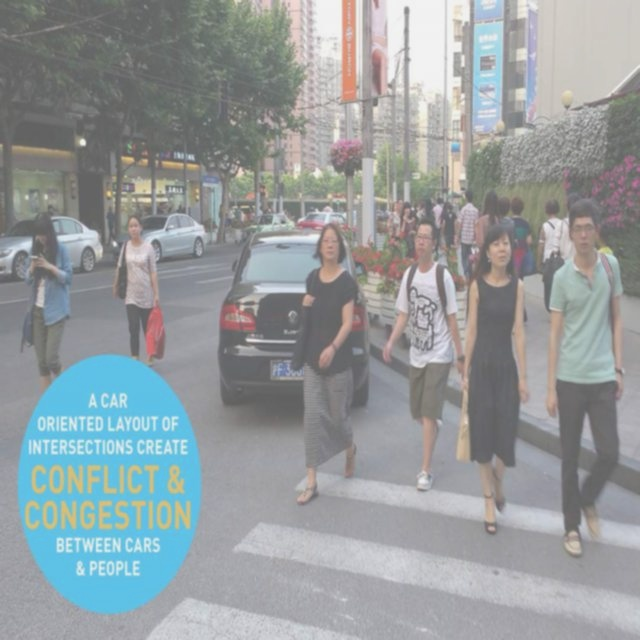pessoa: (546, 196, 627, 560), (381, 214, 470, 493), (454, 221, 532, 537), (290, 221, 360, 506), (17, 210, 74, 394), (112, 214, 160, 368), (536, 198, 566, 326), (510, 196, 536, 327), (452, 188, 480, 288), (552, 192, 580, 265), (472, 188, 500, 250), (218, 203, 256, 243), (399, 201, 418, 259), (498, 195, 516, 238), (442, 202, 458, 250), (432, 196, 444, 257), (258, 204, 296, 222), (594, 222, 614, 256), (155, 202, 191, 217), (306, 202, 346, 214), (392, 198, 404, 235), (106, 205, 116, 247), (422, 198, 436, 220), (412, 199, 425, 218), (46, 204, 59, 218), (431, 196, 444, 210), (439, 231, 446, 254), (391, 199, 399, 212)
